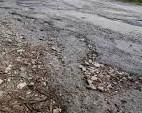pothole: (2, 44, 62, 112), (78, 51, 132, 91), (105, 13, 139, 34), (7, 9, 39, 26)
